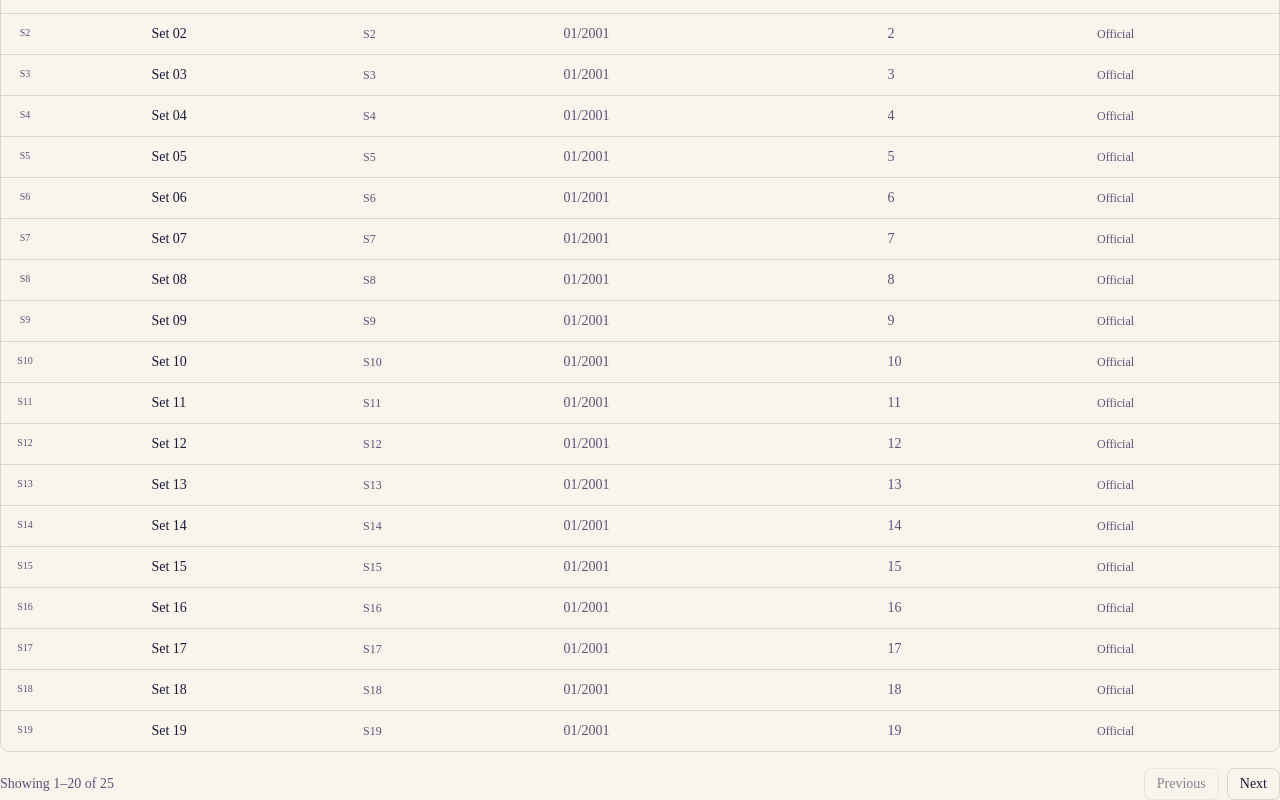
it: AdminSetsTable › paginates when there are more than one page of sets
(page scrolled)
Click the button "Next" at (1253, 784), box [1227, 768, 1279, 799]
(page scrolled)
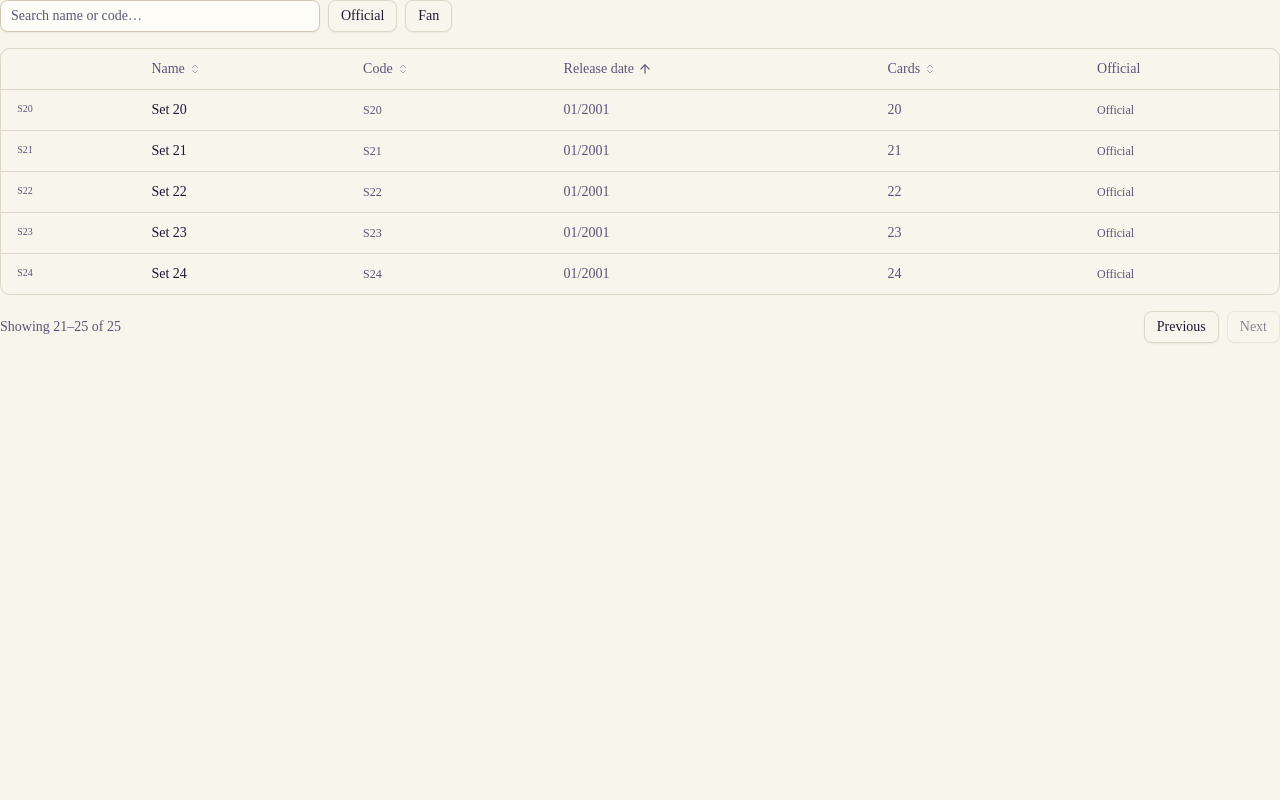
Check: the number of links is 5, box [151, 102, 187, 116]; [151, 142, 187, 158]; [151, 184, 187, 198]; [151, 224, 187, 240]; [151, 266, 187, 280]
Type "Set 03" into the field with placeholder "Search name or code…" at (160, 16), box [0, 0, 320, 32]
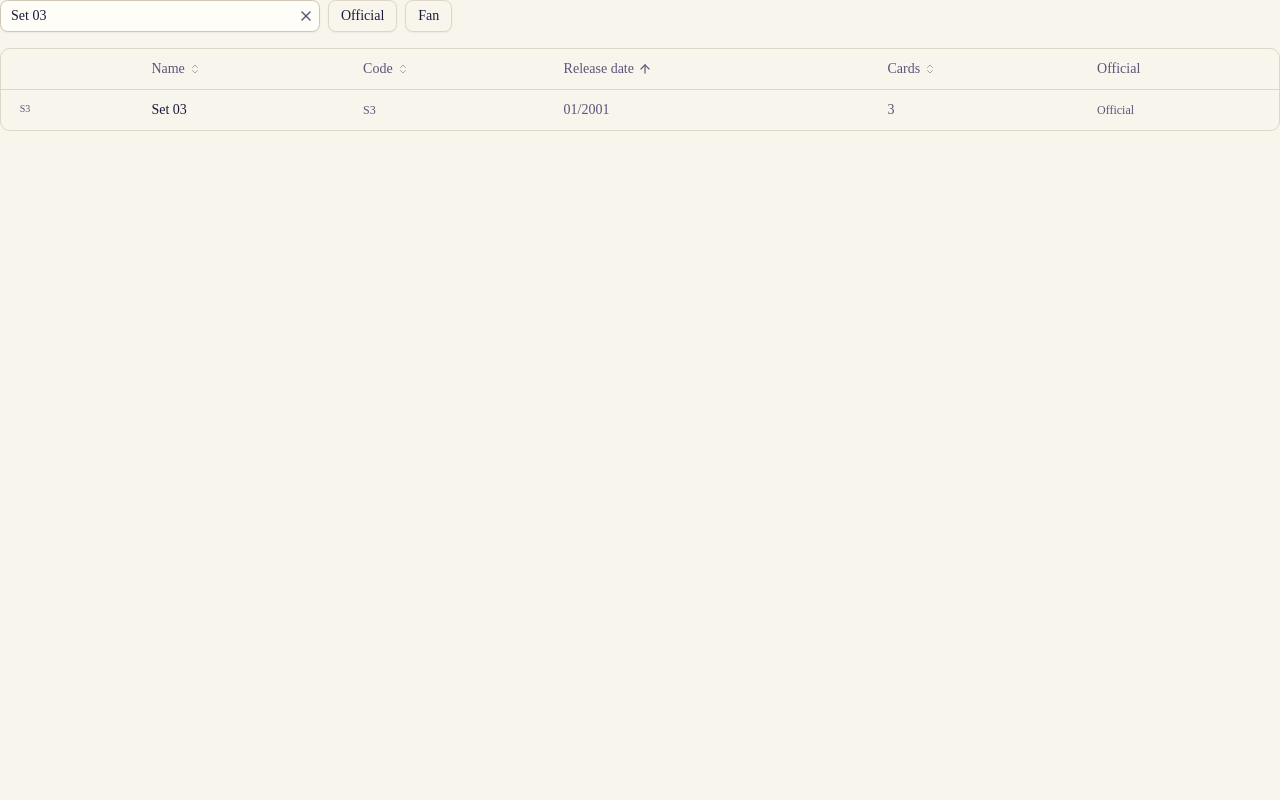
Check: the link "Set 03" is shown, box [151, 102, 187, 116]
